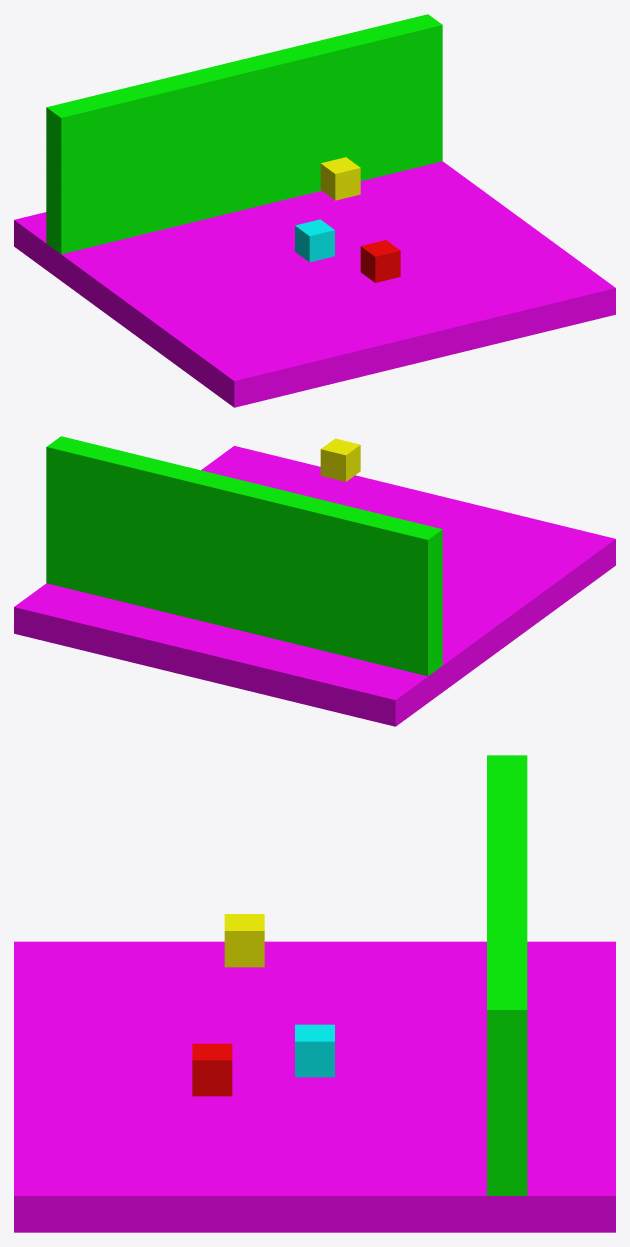
File: squares_and_things.gltf
3 renders of one model, top to bottom at view 1: azimuth 30°, elevation 25°; view 2: azimuth 150°, elevation 25°; view 3: azimuth 270°, elevation 25°, orthographic. The views are drawn at different scales.
Visible parts, largest first — view 1: Cube, Cube.003, Cube.004, Cube.002, Cube.001; view 2: Cube.003, Cube, Cube.004; view 3: Cube, Cube.003, Cube.004, Cube.002, Cube.001.
Part boxes in pixels (x1,y1,x2,y2): Cube: (14, 161, 615, 407); Cube.003: (46, 14, 442, 254); Cube.004: (320, 157, 360, 200); Cube.002: (360, 240, 400, 282); Cube.001: (295, 219, 334, 262); Cube.003: (46, 436, 442, 676); Cube: (14, 446, 615, 726); Cube.004: (320, 438, 360, 481); Cube: (14, 941, 615, 1232); Cube.003: (487, 755, 527, 1195); Cube.004: (224, 914, 264, 967); Cube.002: (192, 1043, 232, 1096); Cube.001: (295, 1024, 334, 1077).
Size of the model in its own units: 30 by 12.24 by 30.
